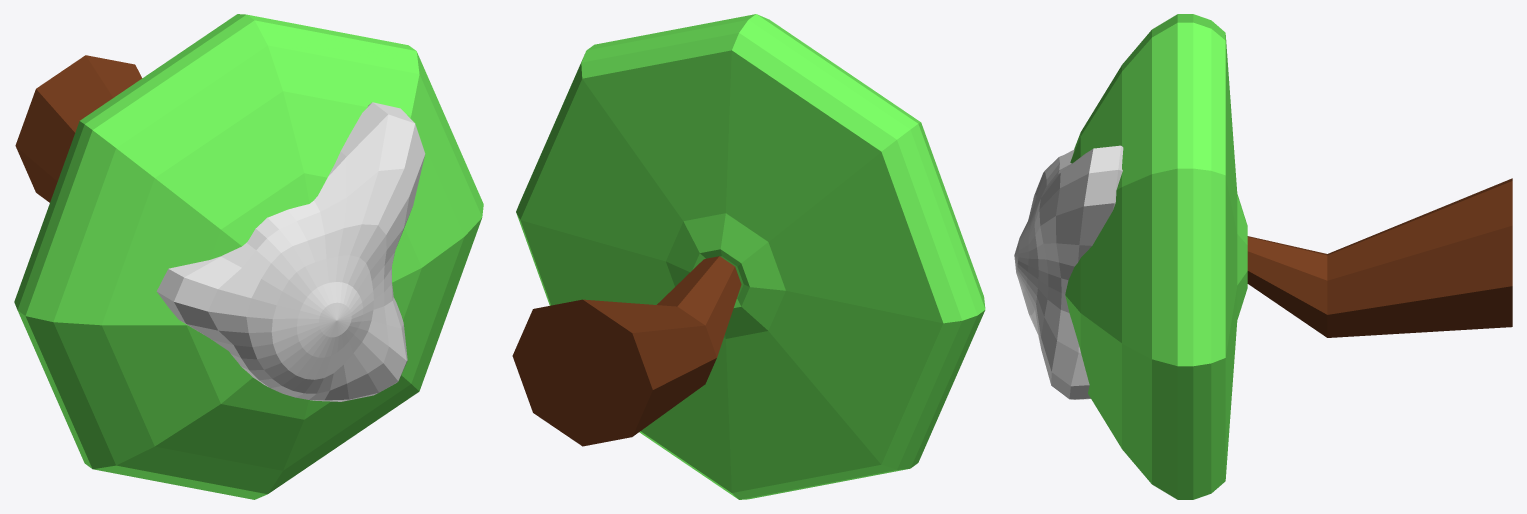
File: TreeWithSnow2.fbx
3 views of the same model, side by side, from view 1: azimuth 30°, elevation 25°; view 2: azimuth 150°, elevation 25°; view 3: azimuth 270°, elevation 25° (orthographic). The views are drawn at different scales.
Parts seen in each view (by area): view 1: Cylinder; view 2: Cylinder; view 3: Cylinder.
Boxes of the visible parts, left/top/right/bottom form: Cylinder: left=14, top=14, right=483, bottom=499; Cylinder: left=512, top=14, right=985, bottom=499; Cylinder: left=1014, top=14, right=1512, bottom=499.
Bounding box in the file's own units: 653 × 653 × 629.
